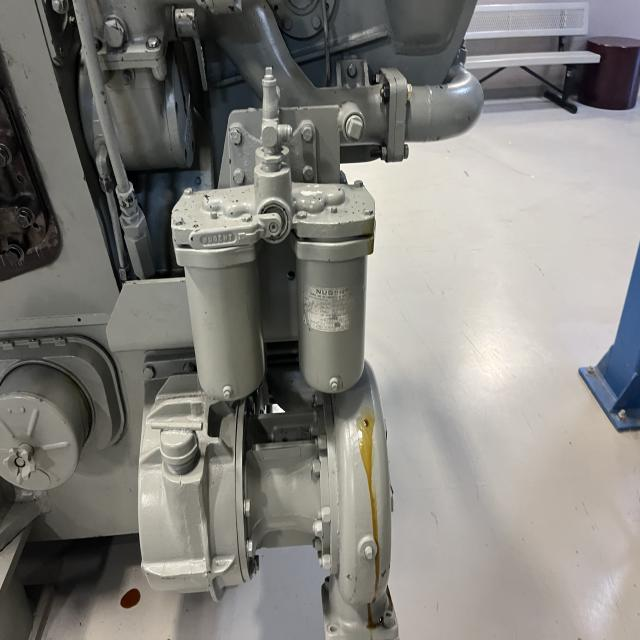Oil Leak: (344, 408, 396, 631), (68, 376, 95, 465), (354, 214, 376, 256), (116, 586, 145, 612)
